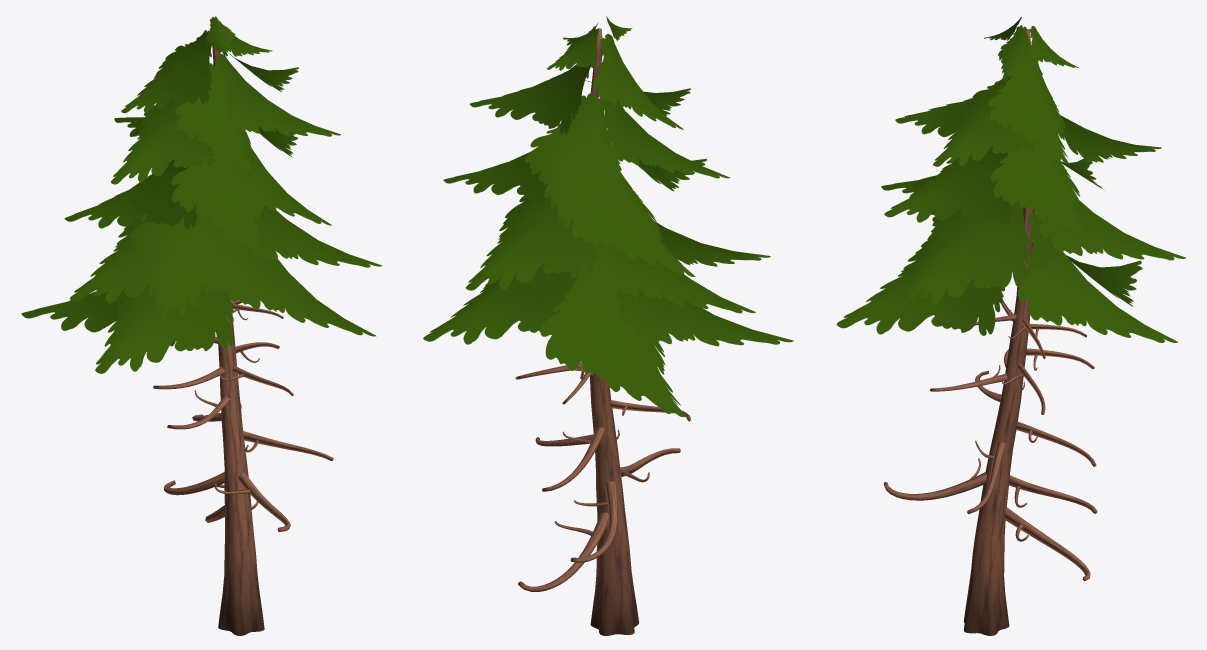
The model's file is pine-699sfulcn2-transformed.glb.
3 renders of one model, left to right at view 1: azimuth 30°, elevation 25°; view 2: azimuth 150°, elevation 25°; view 3: azimuth 270°, elevation 25°, orthographic. The views are drawn at different scales.
Parts seen in each view (by area): view 1: Pine_3; view 2: Pine_3; view 3: Pine_3.
Part boxes in pixels (x1=…): Pine_3: x1=21, y1=16, x2=382, y2=635; Pine_3: x1=423, y1=16, x2=793, y2=635; Pine_3: x1=836, y1=17, x2=1186, y2=635.
Bounding box in the file's own units: 3.61 × 7.39 × 4.
2 materials, 2 textured.
